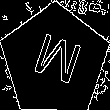M_S: (26, 29, 84, 92)
